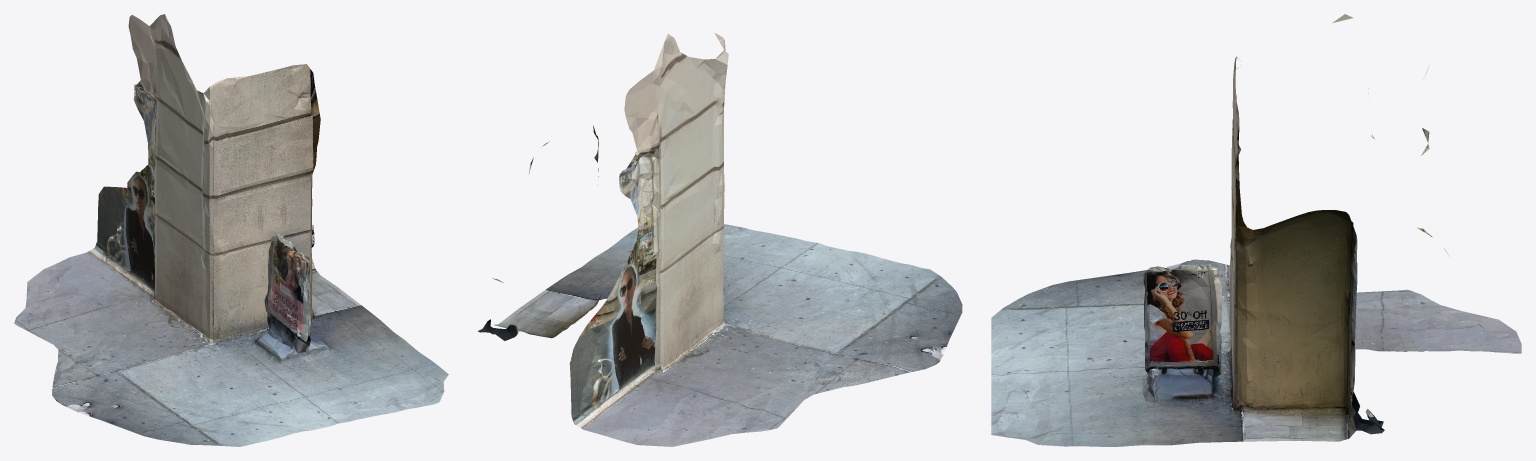
3 renders of one model, left to right at view 1: azimuth 30°, elevation 25°; view 2: azimuth 150°, elevation 25°; view 3: azimuth 270°, elevation 25°, orthographic. The views are drawn at different scales.
Bounding box in the file's own units: 4.46 × 4.02 × 5.46.
Materials: 1 (1 with a texture image).
